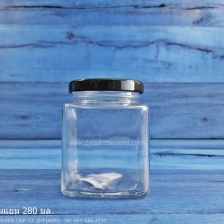glass: (52, 72, 169, 207)
